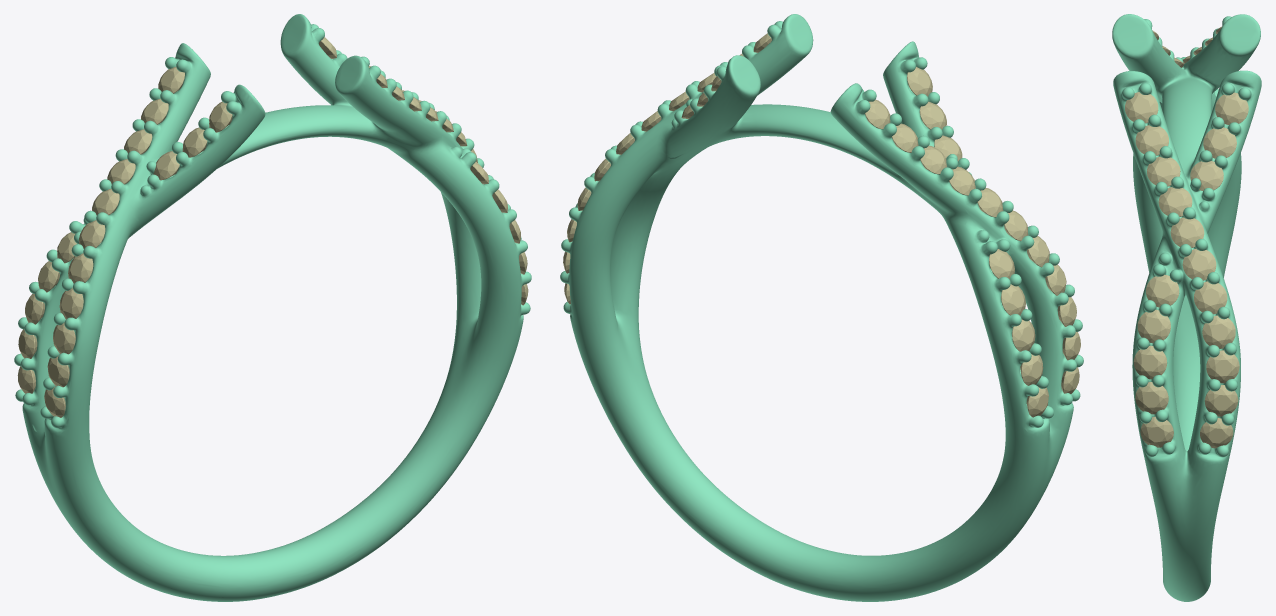
The picture shows the model from 3 angles, left to right: view 1: azimuth 30°, elevation 25°; view 2: azimuth 150°, elevation 25°; view 3: azimuth 270°, elevation 25°; orthographic projection.
Parts seen in each view (by area): view 1: Metal02; view 2: Metal02; view 3: Metal02, Diamond_Gem.015, Diamond_Gem.016, Diamond_Gem.012, Diamond_Gem.014, Diamond_Gem, Diamond_Gem.013, Diamond_Gem.011, Diamond_Gem.017, Diamond_Gem.001, Diamond_Gem.003, Diamond_Gem.004 (+8 smaller).
Part boxes in pixels (box(x1,y1,x2,y2)): Metal02: box(14, 14, 531, 601); Metal02: box(560, 14, 1083, 601); Metal02: box(1112, 14, 1261, 601); Diamond_Gem.015: box(1137, 309, 1170, 343); Diamond_Gem.016: box(1133, 345, 1167, 379); Diamond_Gem.012: box(1202, 315, 1235, 348); Diamond_Gem.014: box(1146, 274, 1179, 307); Diamond_Gem: box(1215, 92, 1248, 124); Diamond_Gem.013: box(1194, 281, 1227, 314); Diamond_Gem.011: box(1206, 350, 1239, 383); Diamond_Gem.017: box(1135, 382, 1168, 414); Diamond_Gem.001: box(1203, 127, 1236, 158); Diamond_Gem.003: box(1182, 249, 1216, 280); Diamond_Gem.004: box(1170, 217, 1204, 247).
Bounding box in the file's own units: 21.22 × 22.81 × 5.79.
